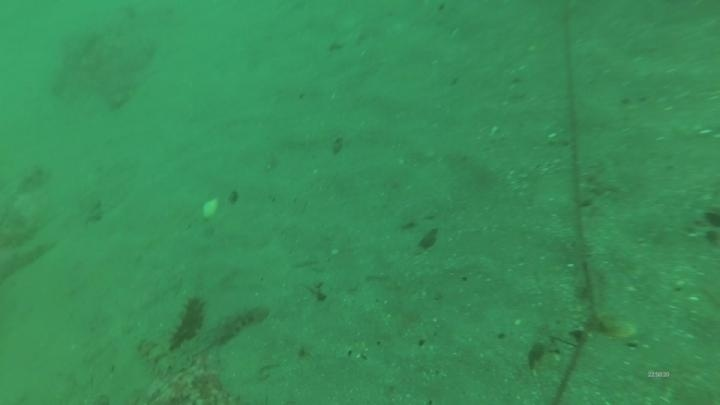holothurian: (206, 298, 270, 349), (164, 290, 207, 349)
